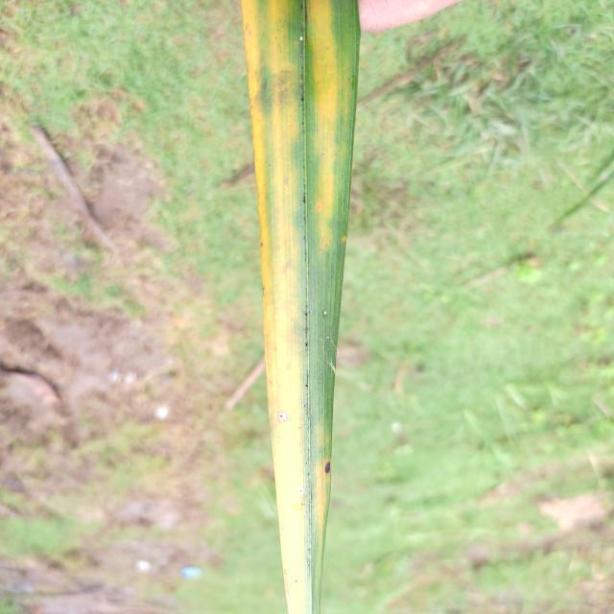Megnesium: (240, 0, 363, 614)
